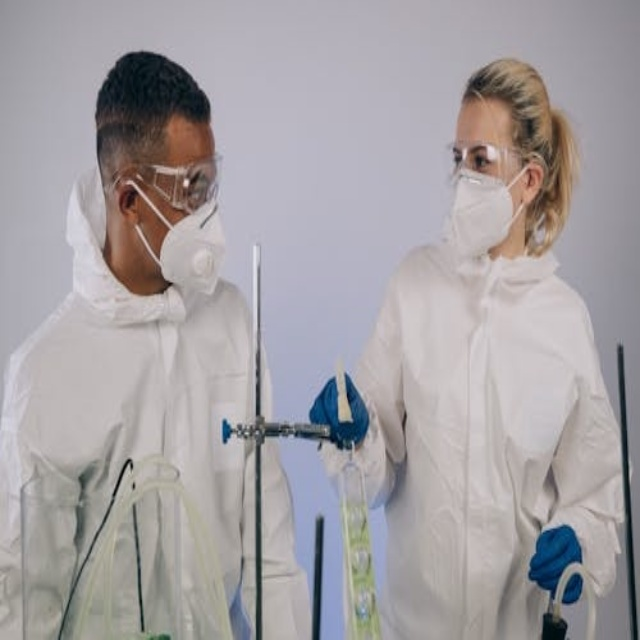Gafas: (107, 154, 223, 211), (447, 141, 539, 186)
Guantes: (526, 523, 588, 607)
Mascara: (139, 184, 225, 298), (447, 163, 531, 258)
